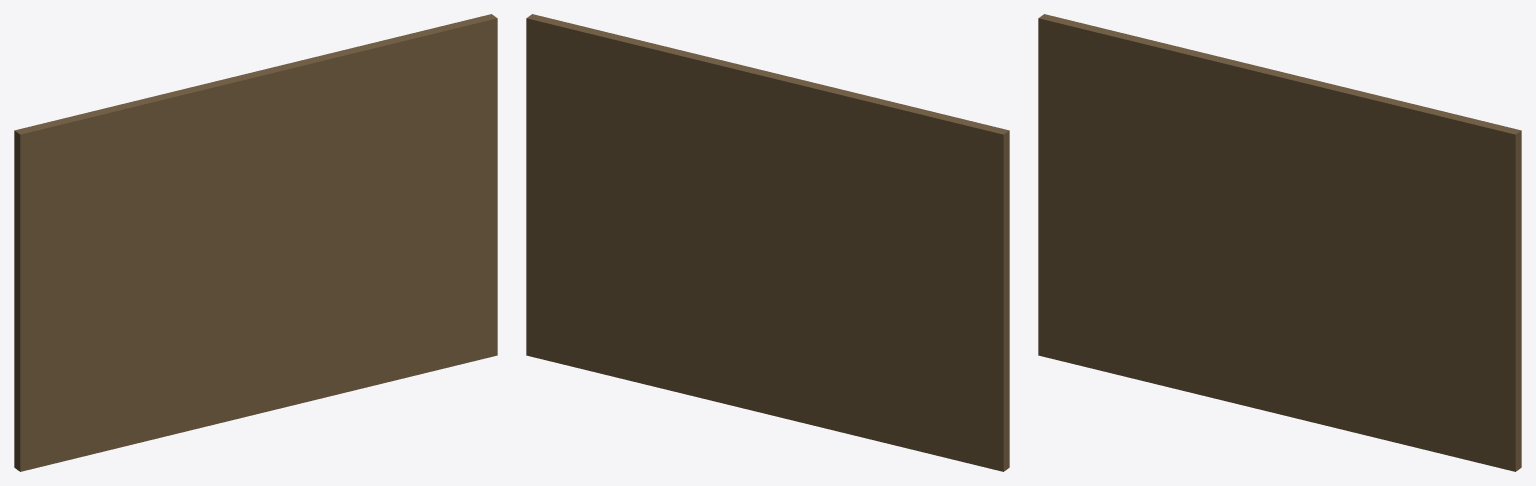
The model's file is SM_Prop_Flag_03.glb.
3 renders of one model, left to right at view 1: azimuth 30°, elevation 25°; view 2: azimuth 150°, elevation 25°; view 3: azimuth 330°, elevation 25°, orthographic.
Parts seen in each view (by area): view 1: SM_Prop_Flag_03; view 2: SM_Prop_Flag_03; view 3: SM_Prop_Flag_03.
Boxes of the visible parts, x1,y1,x2,y2 form: SM_Prop_Flag_03: [14, 14, 497, 471]; SM_Prop_Flag_03: [526, 14, 1009, 471]; SM_Prop_Flag_03: [1038, 14, 1521, 471].
Size of the model in its own units: 1.65 by 1.11 by 0.0349.
1 material, 1 textured.
